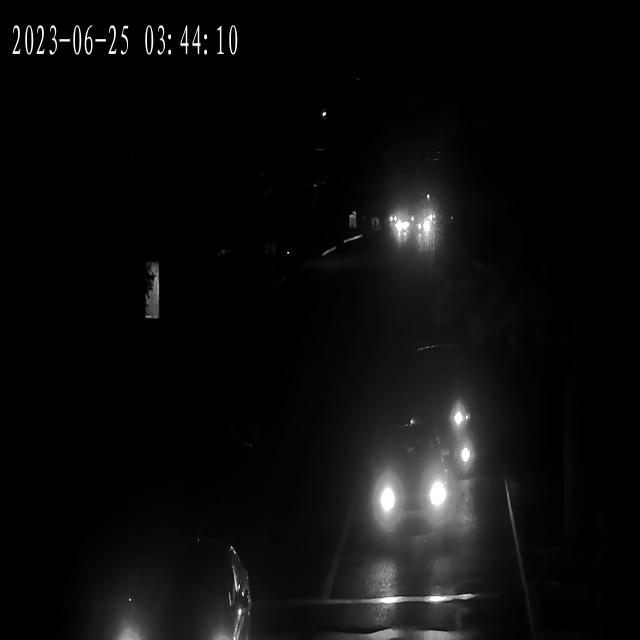Car: (84, 525, 250, 640), (362, 451, 454, 533), (408, 364, 481, 466), (394, 218, 409, 246), (414, 218, 438, 234)
